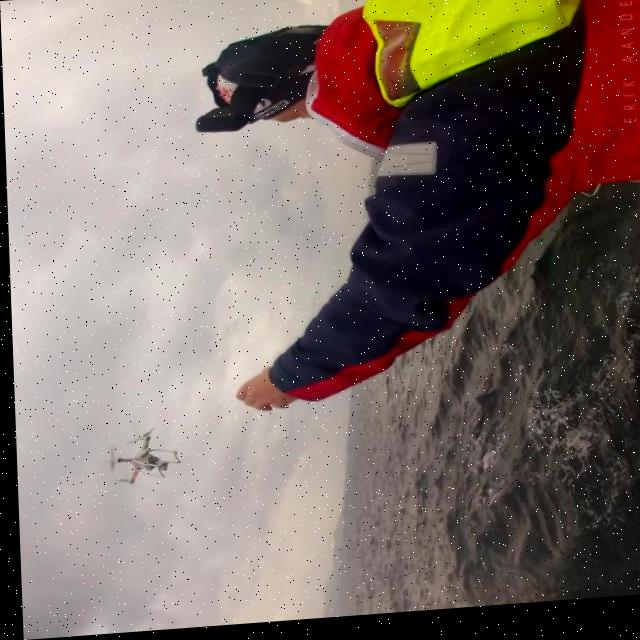drone: (96, 427, 179, 490)
